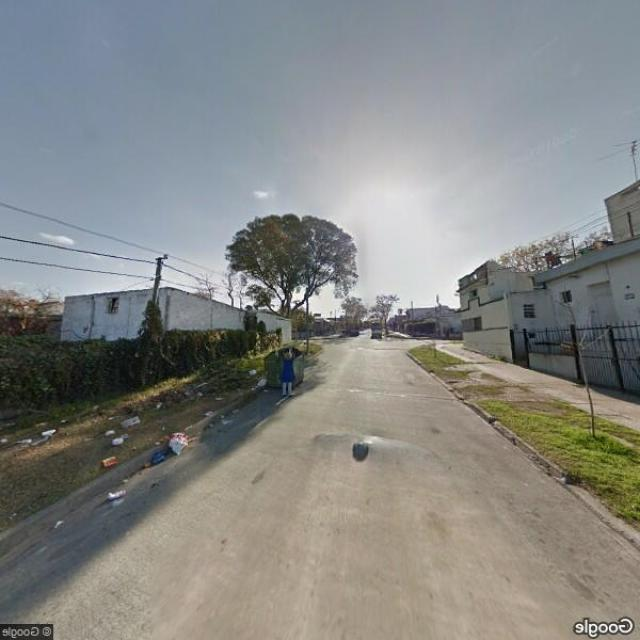garbage container: (252, 342, 308, 401)
